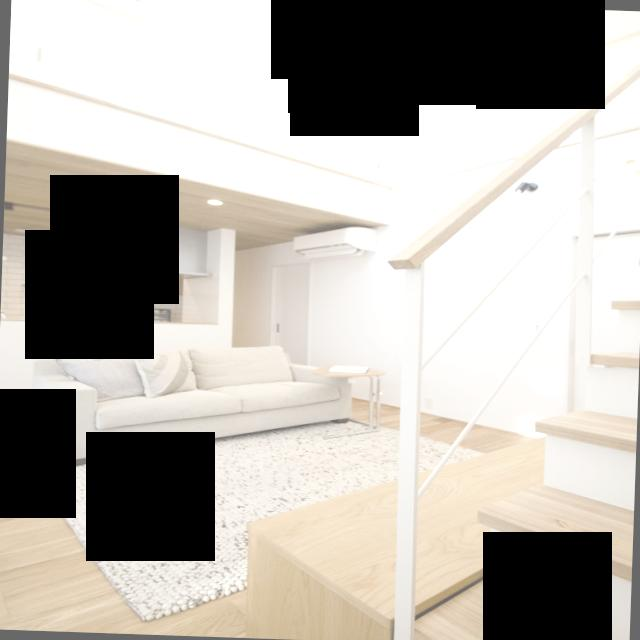natural sofa: (25, 334, 358, 462)
